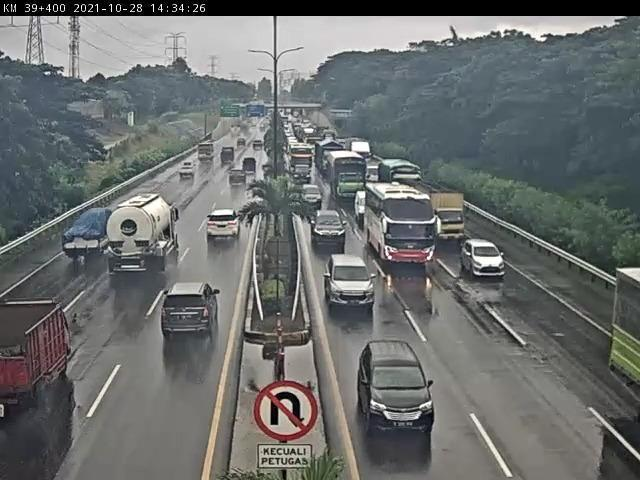bus: (362, 182, 440, 269)
car: (359, 342, 440, 437), (161, 282, 222, 338), (324, 252, 379, 312), (459, 238, 509, 281), (309, 209, 349, 251), (205, 209, 245, 243), (298, 184, 324, 210), (355, 191, 372, 219), (179, 160, 200, 180), (229, 166, 250, 186)
truck: (1, 295, 73, 414), (107, 193, 180, 273), (65, 208, 118, 263), (424, 186, 468, 242), (326, 153, 366, 202), (380, 157, 427, 187)
